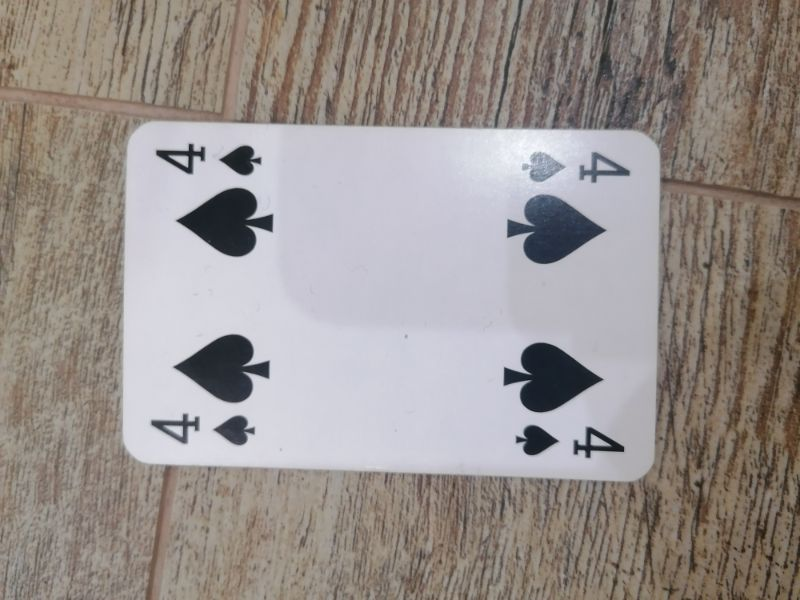4s: (517, 142, 635, 187), (513, 422, 629, 465), (152, 139, 265, 181), (146, 409, 259, 450)
